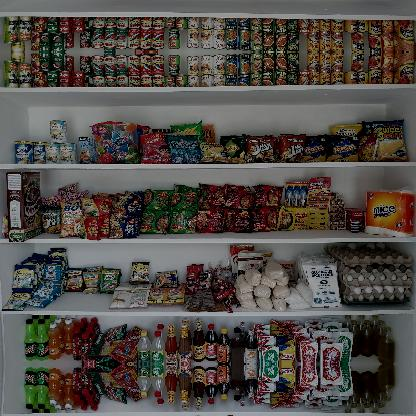Koko-Krunch: (6, 169, 46, 243)
